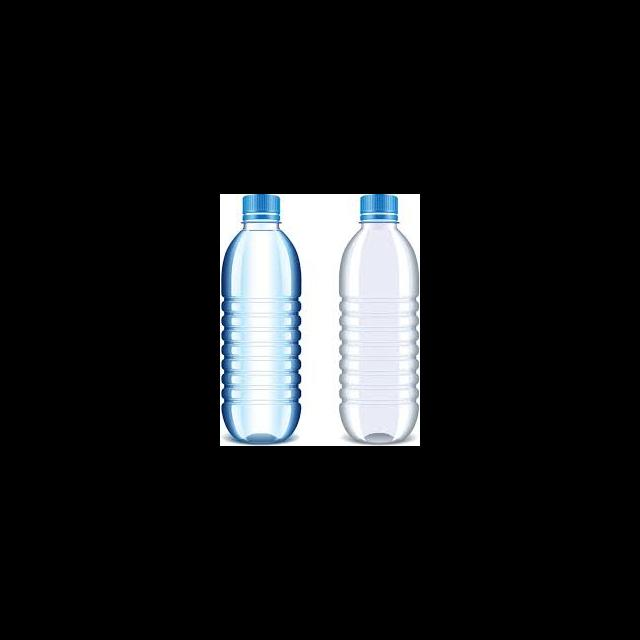plastic: (338, 194, 419, 443), (221, 194, 300, 442), (357, 194, 397, 219), (240, 194, 279, 219)
